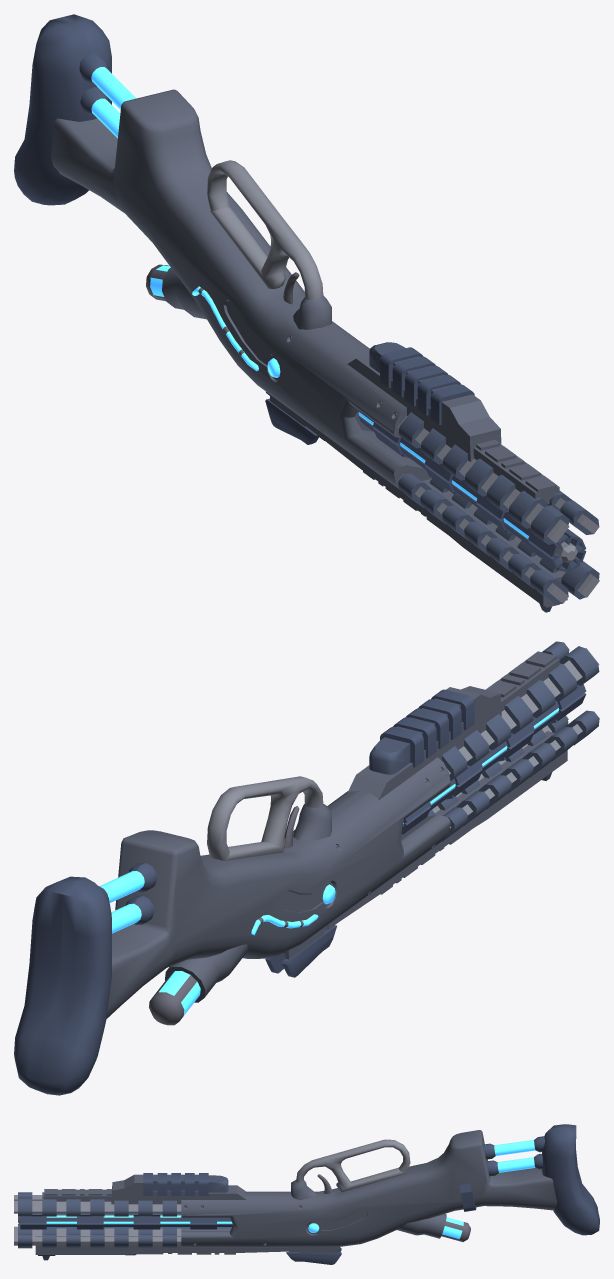
File: charge_shotgun.glb
3 views of the same model, one above another, from view 1: azimuth 30°, elevation 25°; view 2: azimuth 150°, elevation 25°; view 3: azimuth 270°, elevation 25° (orthographic). The views are drawn at different scales.
Parts seen in each view (by area): view 1: Mesh1__2_0; view 2: Mesh1__2_0; view 3: Mesh1__2_0.
Boxes of the visible parts, x1,y1,x2,y2 form: Mesh1__2_0: (14,14,599,612); Mesh1__2_0: (14,641,599,1095); Mesh1__2_0: (14,1124,599,1264).
Size of the model in its own units: 0.1145 by 0.3616 by 1.42.
